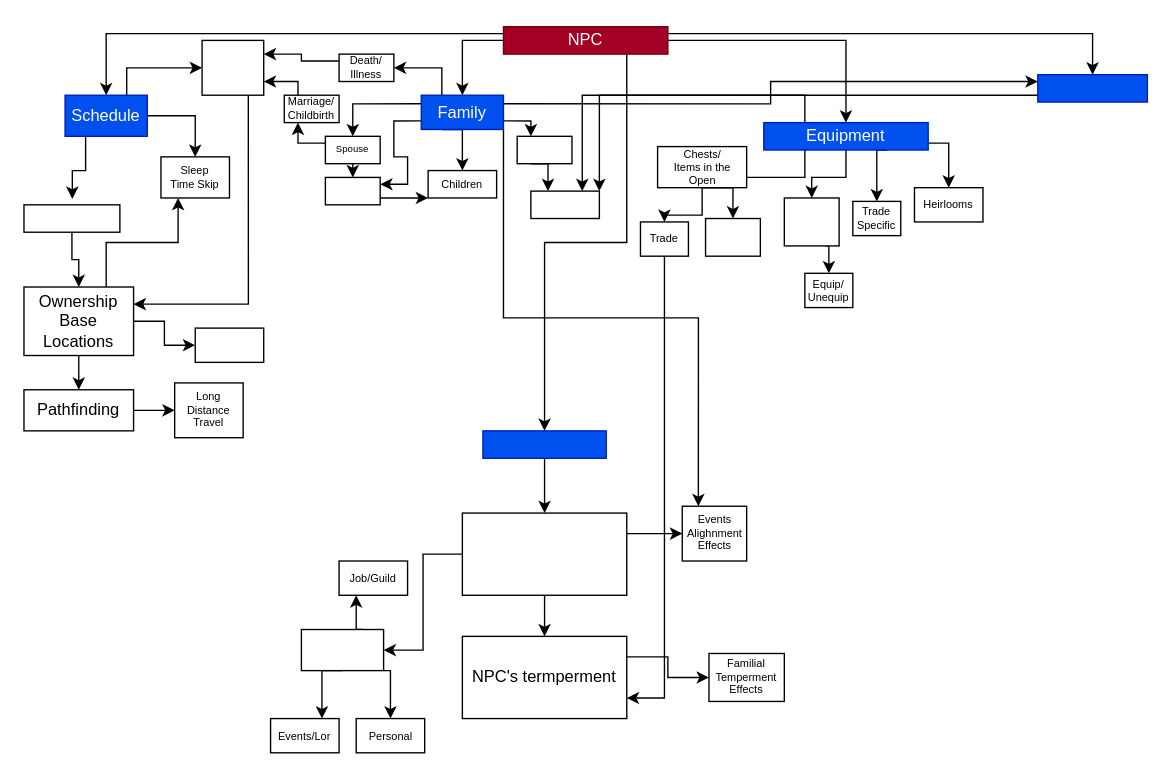
This 1171x777 diagram has some shape labels left out. Here are the shapes that lost their labels. From the top down, the box of each, then its label:
(201, 39, 264, 95): Familial Schedule Effects
(1036, 73, 1147, 102): Inventory
(516, 135, 572, 164): Home
(324, 176, 380, 205): Fertility
(530, 190, 599, 219): Inheretence
(23, 203, 120, 232): Time Check
(704, 217, 760, 256): Theivery/ Detection
(783, 197, 839, 246): Weapons/ Armor
(194, 327, 264, 362): Career
(482, 429, 606, 458): Interaction
(461, 512, 627, 595): Alignment/Reputation against player's
(300, 628, 384, 671): Dialogue
